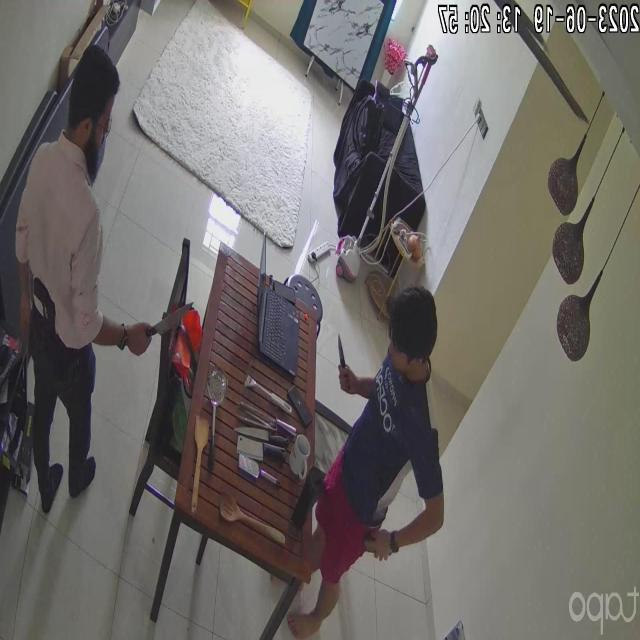Gun: (20, 269, 62, 332)
Knife: (142, 296, 198, 342), (329, 330, 363, 386)
